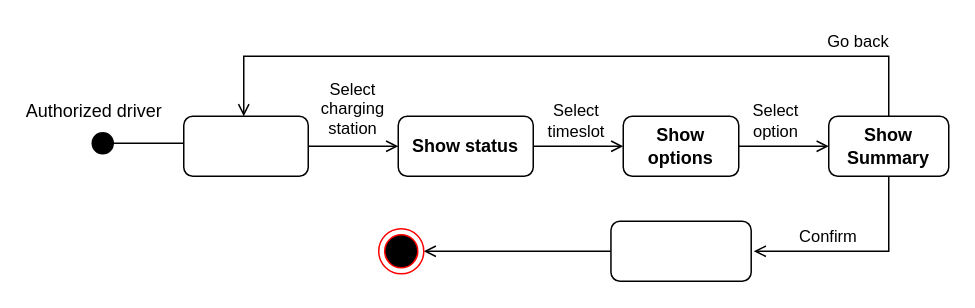
Image size: 975x308. Some labels were removed from this diagram. Here are the shapes that lost their labels. From the top down, the box of each, then its label:
(182, 115, 308, 176): Main page
(609, 220, 751, 281): Book charge
